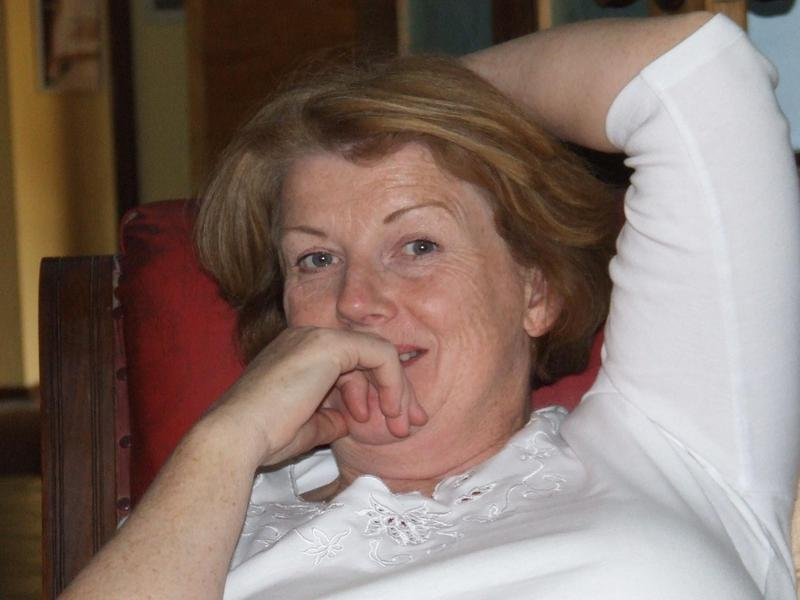person: (84, 15, 800, 600)
